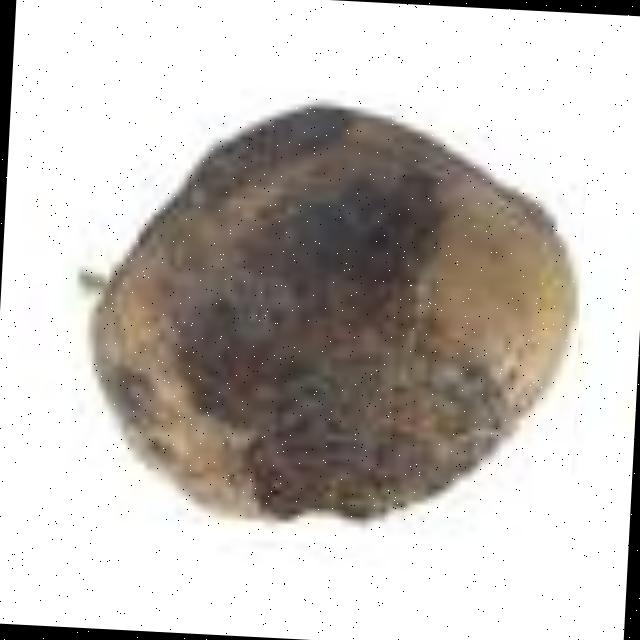Damaged potato: (48, 77, 590, 556)
